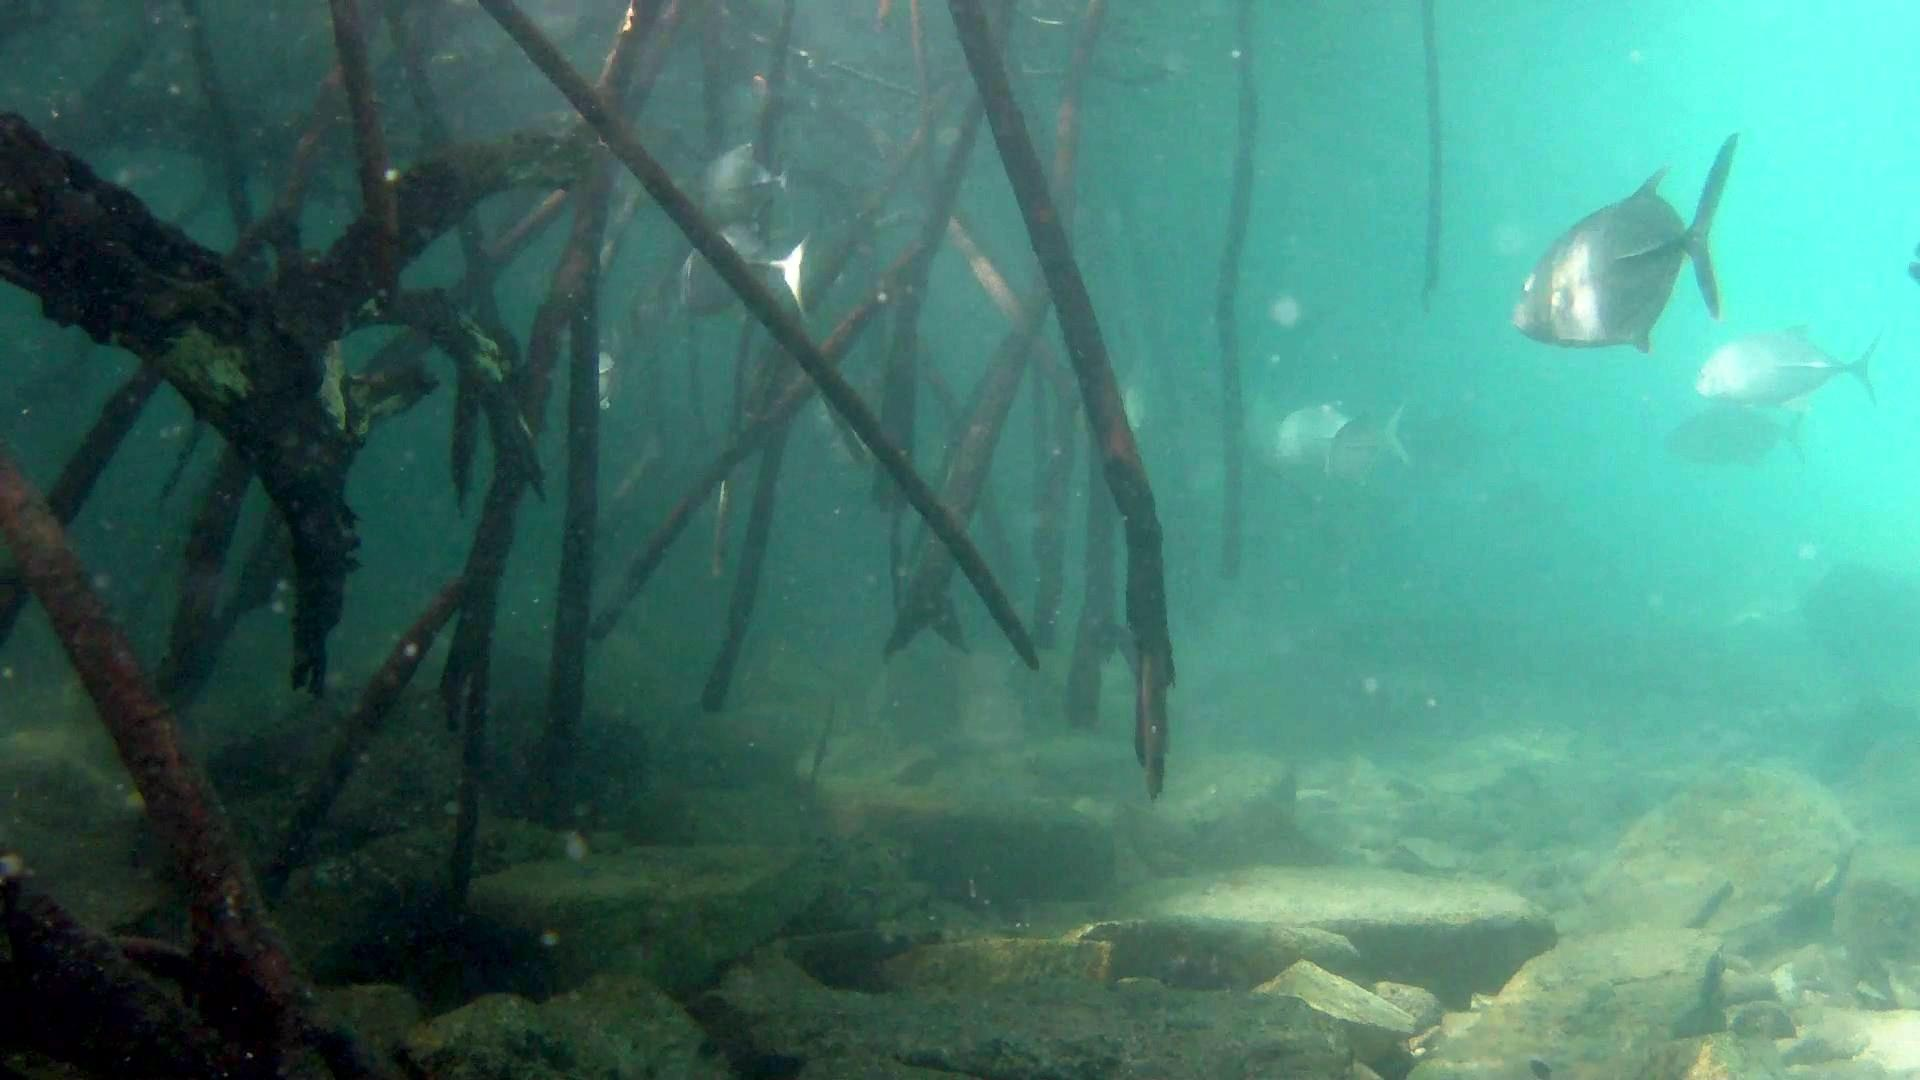caranx: (1507, 131, 1750, 359)
